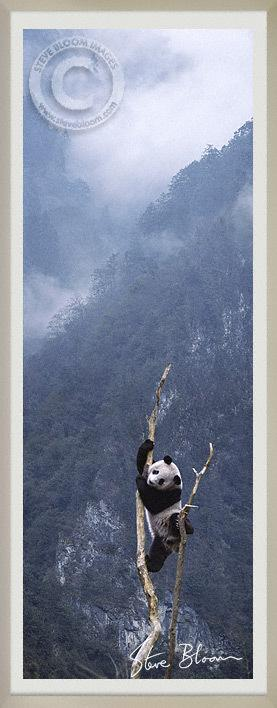panda: (136, 441, 182, 572), (185, 519, 192, 534)
